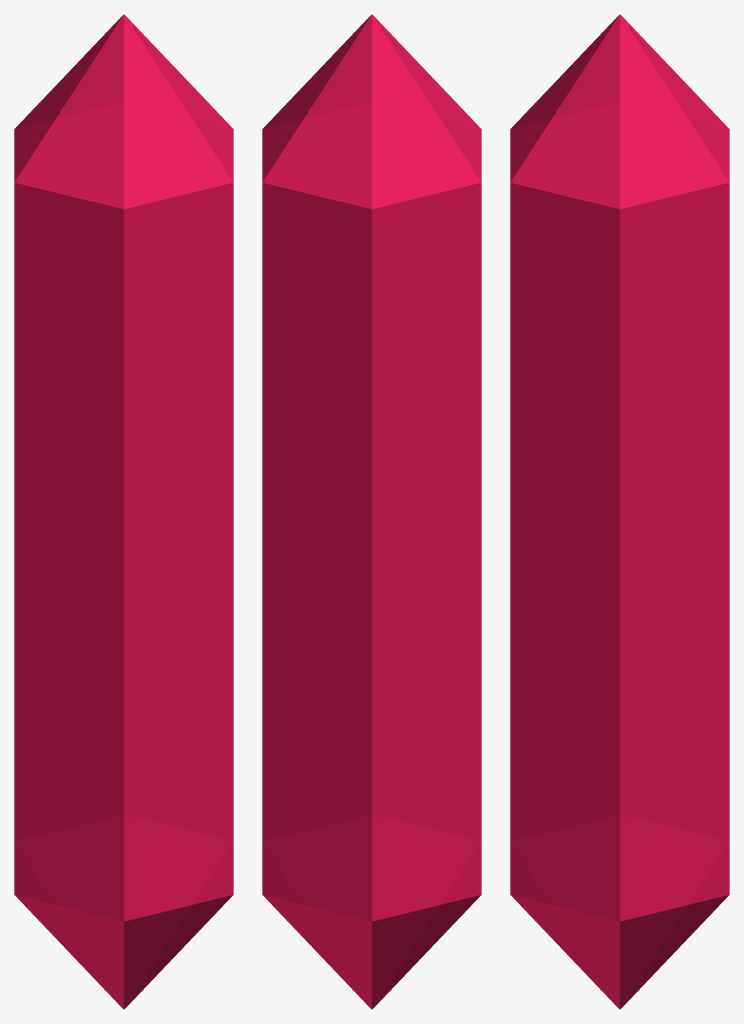
Rendered from refractor.obj.
The picture shows the model from 3 angles, left to right: view 1: azimuth 30°, elevation 25°; view 2: azimuth 150°, elevation 25°; view 3: azimuth 270°, elevation 25°; orthographic projection.
Parts seen in each view (by area): view 1: Refractor; view 2: Refractor; view 3: Refractor.
Boxes of the visible parts, x1=… form: Refractor: x1=14, y1=14, x2=233, y2=1009; Refractor: x1=262, y1=14, x2=481, y2=1009; Refractor: x1=510, y1=14, x2=729, y2=1009.
Bounding box in the file's own units: 0.76 × 3.3 × 0.6582.
